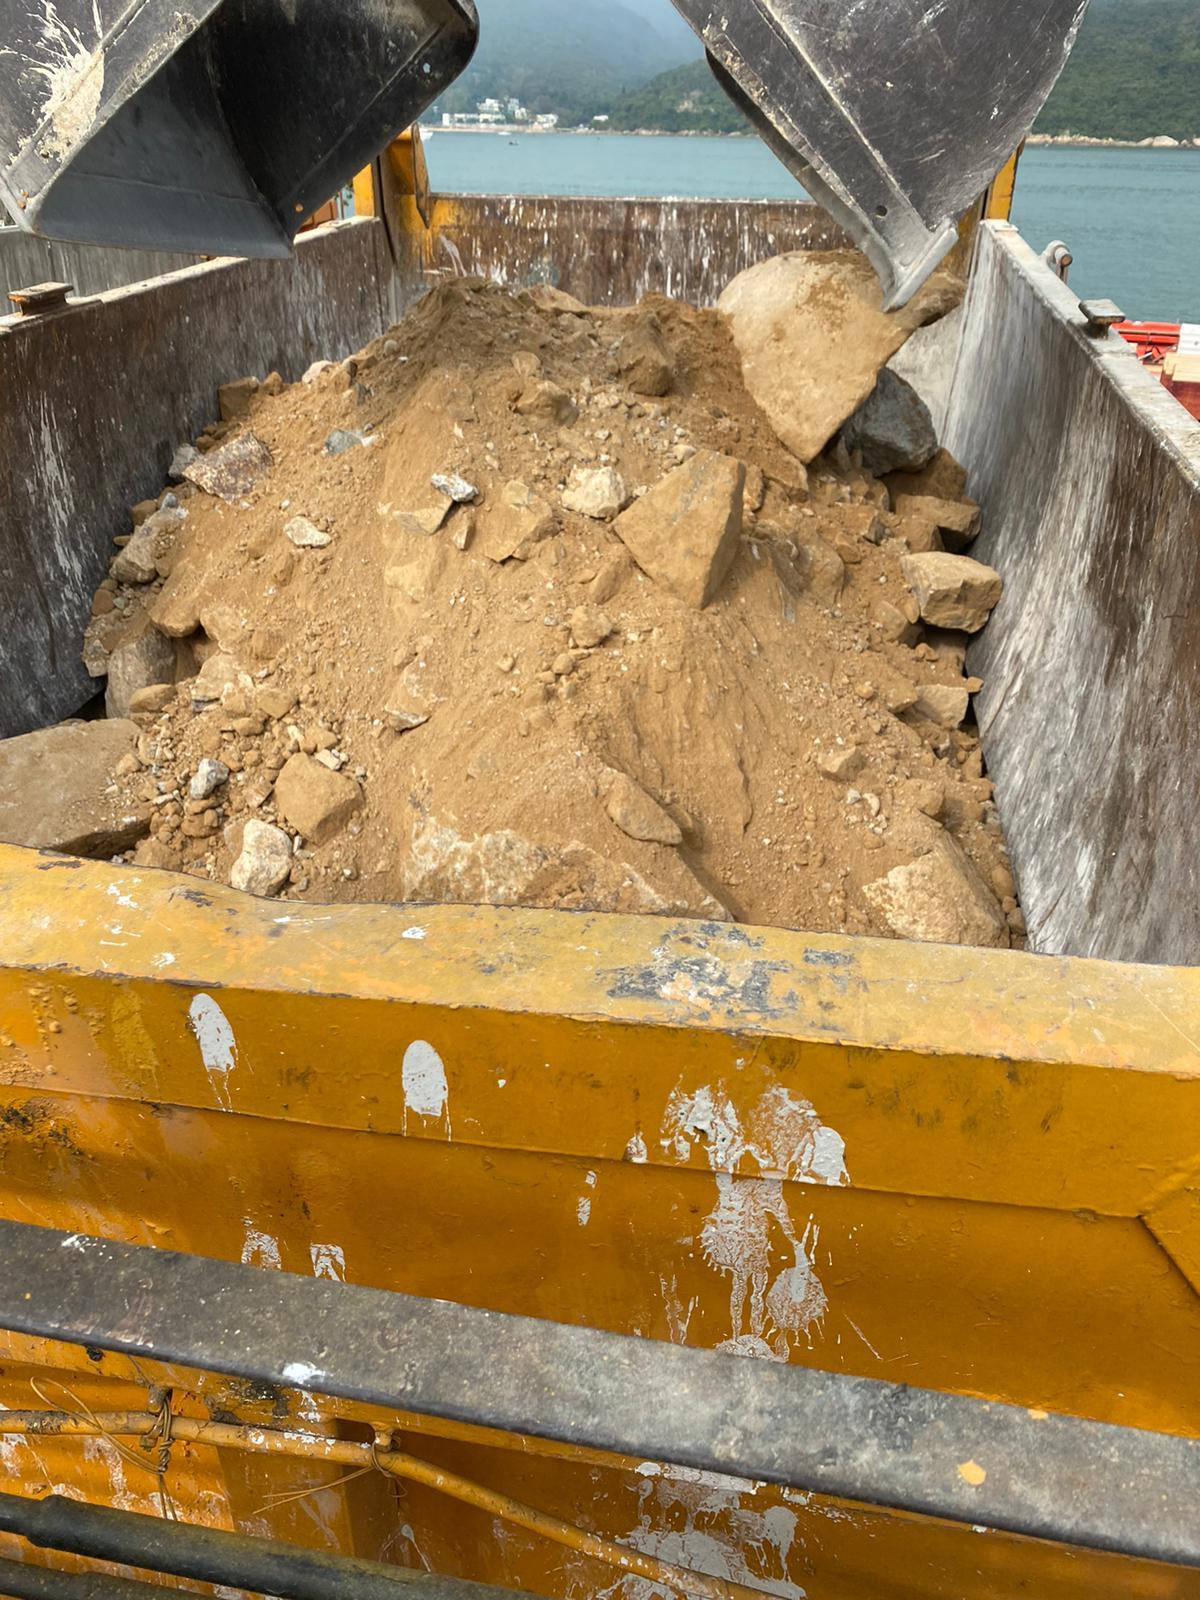dry: (100, 282, 1017, 917)
